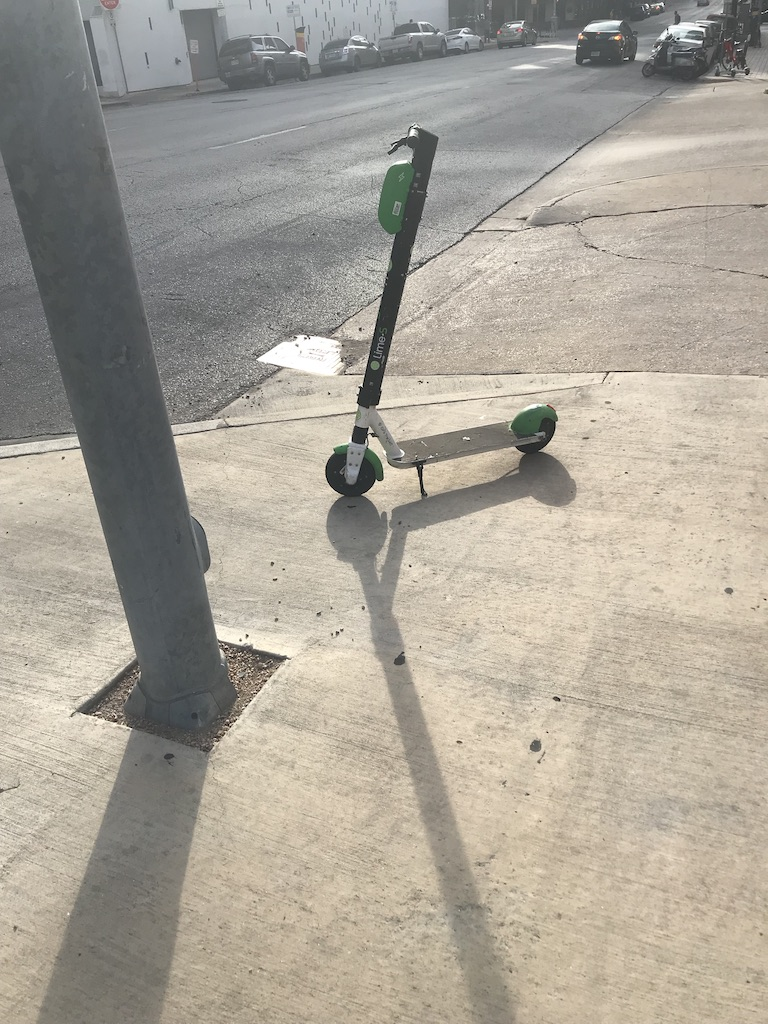scooter: (323, 122, 559, 499)
